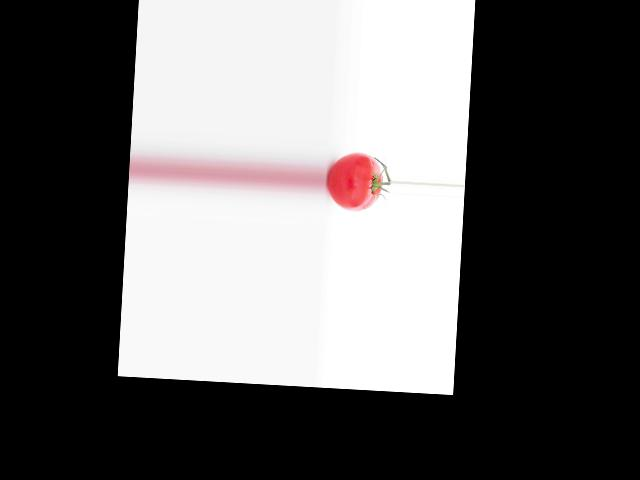tomato: (325, 151, 383, 213)
